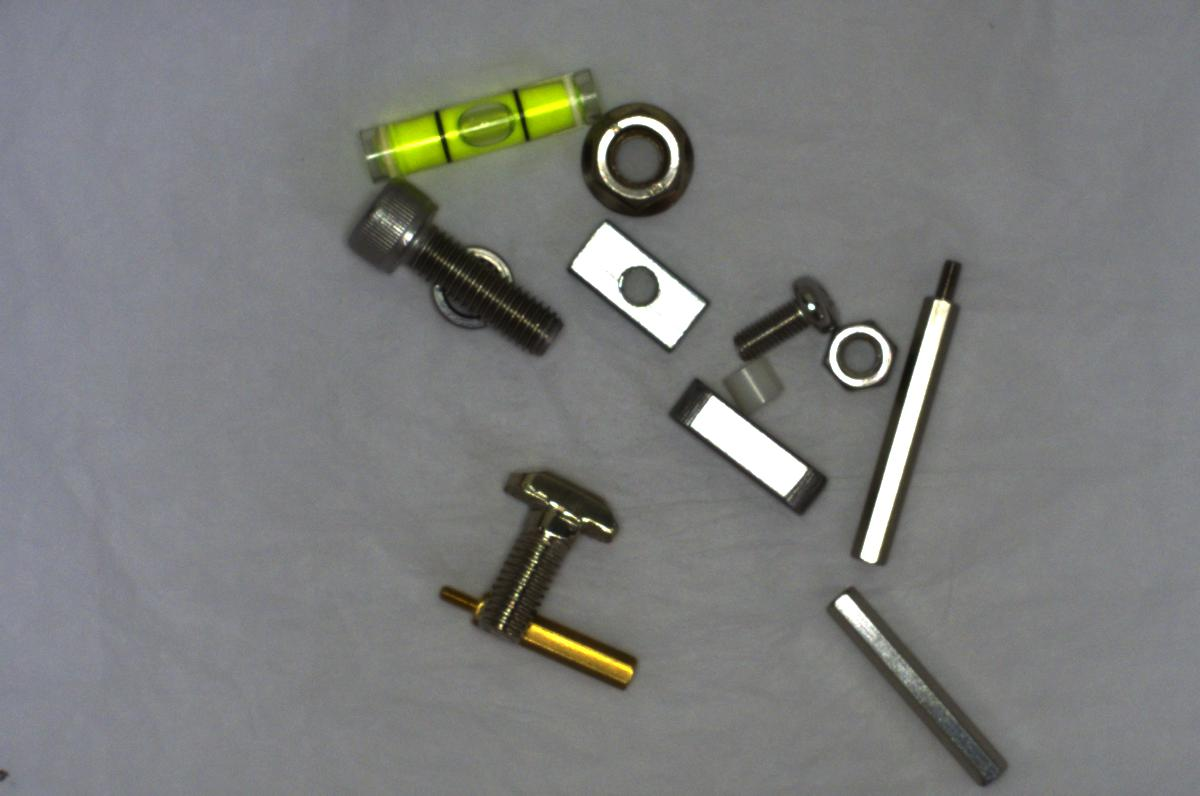Double hexagonal column: (806, 576, 1016, 790)
Flange nut: (562, 91, 705, 228)
Hexagon nut: (815, 317, 901, 395)
Hexagon pillar: (414, 573, 642, 699)
Hexagon screw: (339, 169, 571, 364)
Hexagonal steel column: (843, 245, 979, 564)
Horizontal bubble: (352, 50, 607, 187)
Keybar: (660, 378, 829, 522)
Plastic cushion pillar: (714, 350, 791, 415)
Rectangular nut: (567, 227, 714, 358)
Round head screw: (728, 268, 846, 363)
Spring washer: (421, 246, 524, 336)
T-shaped screw: (467, 462, 630, 631)
